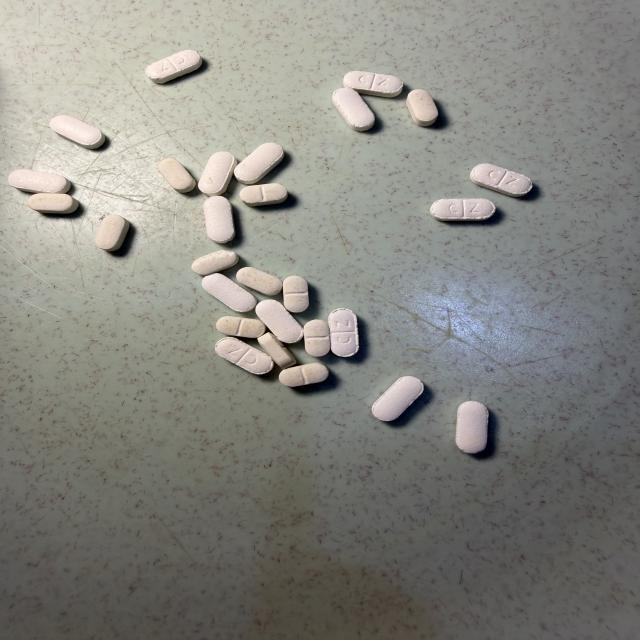pill: (372, 377, 423, 421), (215, 337, 273, 374), (202, 273, 256, 312), (234, 143, 284, 184), (256, 300, 303, 343), (470, 164, 532, 196), (50, 115, 105, 149), (146, 50, 201, 83), (333, 89, 374, 131), (199, 152, 237, 196), (456, 401, 488, 453), (344, 71, 403, 97), (204, 196, 235, 243), (8, 170, 70, 193), (431, 199, 495, 221), (329, 308, 358, 356), (258, 333, 296, 368), (236, 267, 282, 295), (158, 158, 195, 192), (96, 215, 129, 251), (192, 250, 238, 275), (279, 363, 328, 386), (407, 90, 438, 126), (216, 316, 265, 338), (239, 184, 288, 206), (27, 194, 78, 214), (304, 320, 330, 356), (283, 276, 308, 312)
